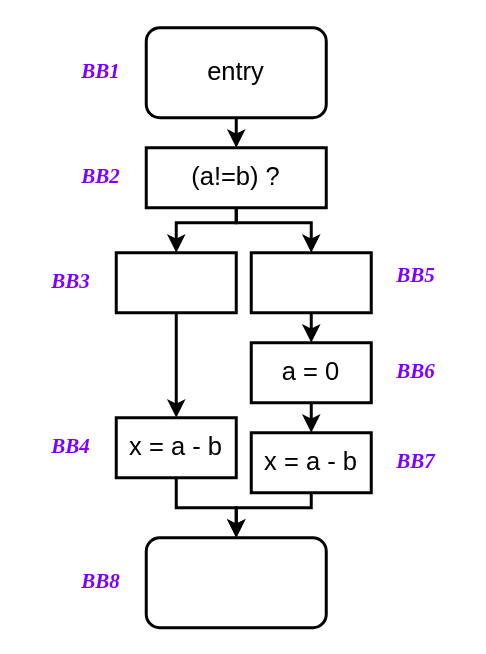
Image size: 486x654. Some labels were removed from this diagram. Here are the shapes that lost their labels. From the top down, the centre of each, then its label:
[175,282]: x = b - a
[310,282]: y = b - a
[235,582]: exit
